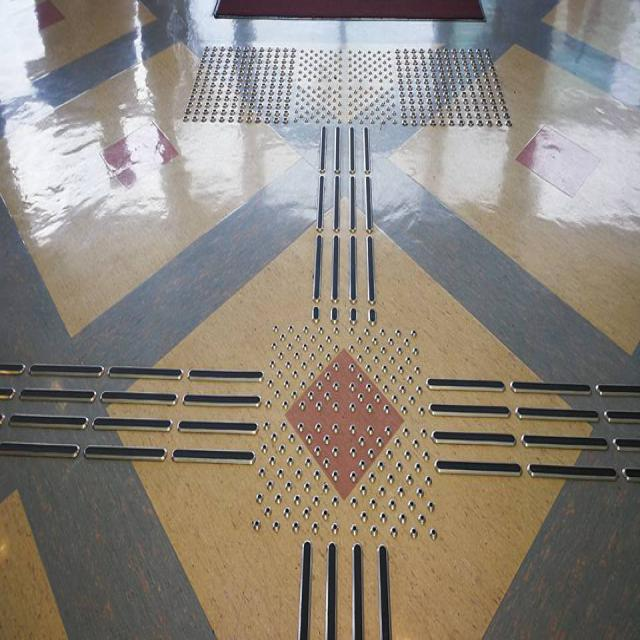tactile-guide-path: (252, 322, 438, 542), (1, 361, 264, 468), (182, 46, 512, 126), (426, 374, 640, 482), (310, 124, 376, 326), (297, 538, 393, 638)
